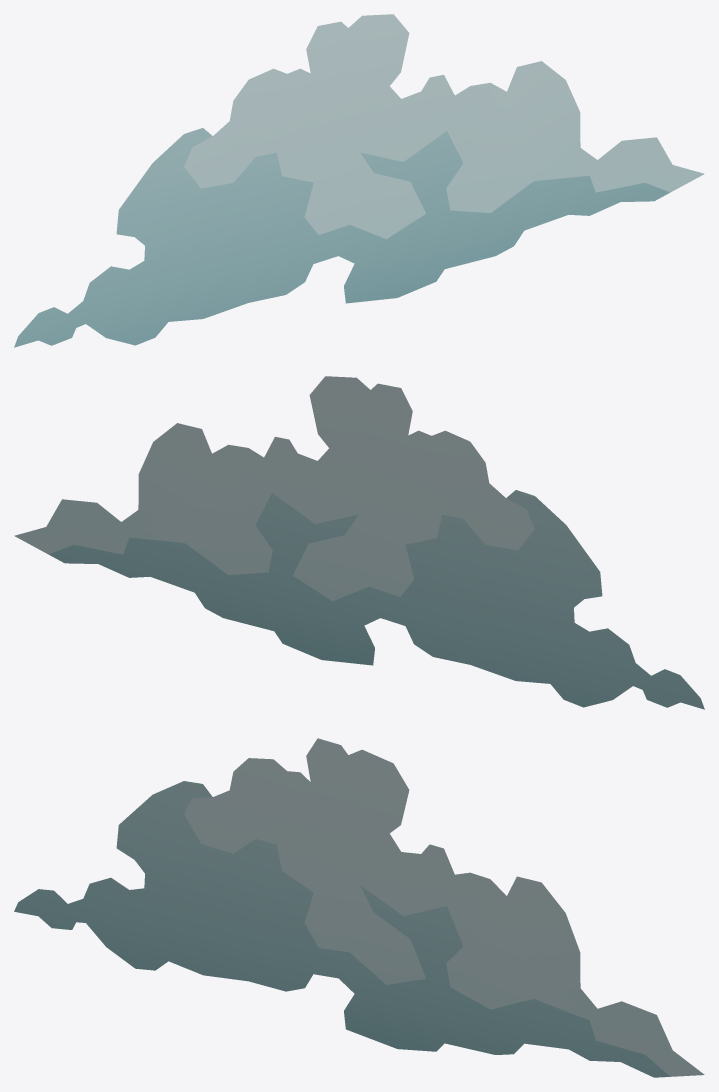
Rendered from AP_Cloud_002.FBX.
The picture shows the model from 3 angles, top to bottom: view 1: azimuth 30°, elevation 25°; view 2: azimuth 150°, elevation 25°; view 3: azimuth 330°, elevation 25°; orthographic projection.
Parts seen in each view (by area): view 1: AP_Cloud_002; view 2: AP_Cloud_002; view 3: AP_Cloud_002.
Part boxes in pixels (<box>): AP_Cloud_002: <box>14,14,704,347</box>; AP_Cloud_002: <box>14,376,704,709</box>; AP_Cloud_002: <box>14,738,704,1077</box>.
Size of the model in its own units: 390 by 157 by 2.09e-07.
